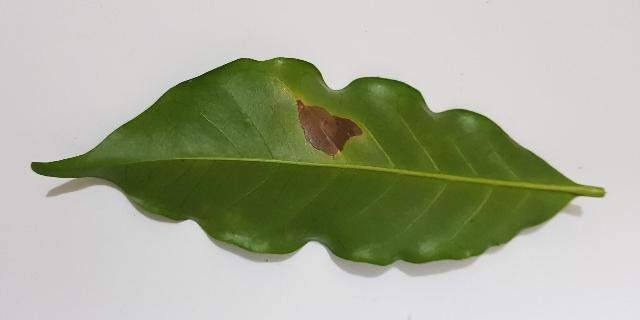cercospora: (296, 98, 363, 157)
